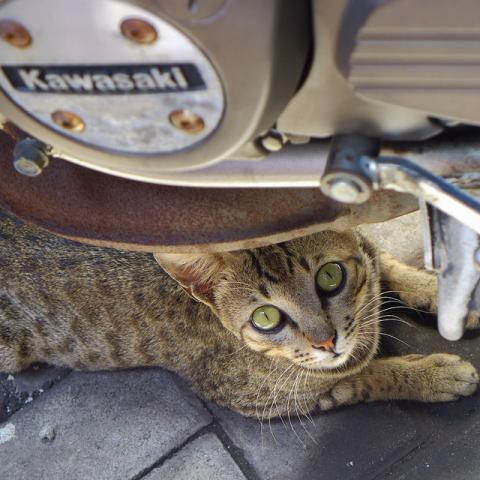motorcycle: (2, 3, 478, 336)
